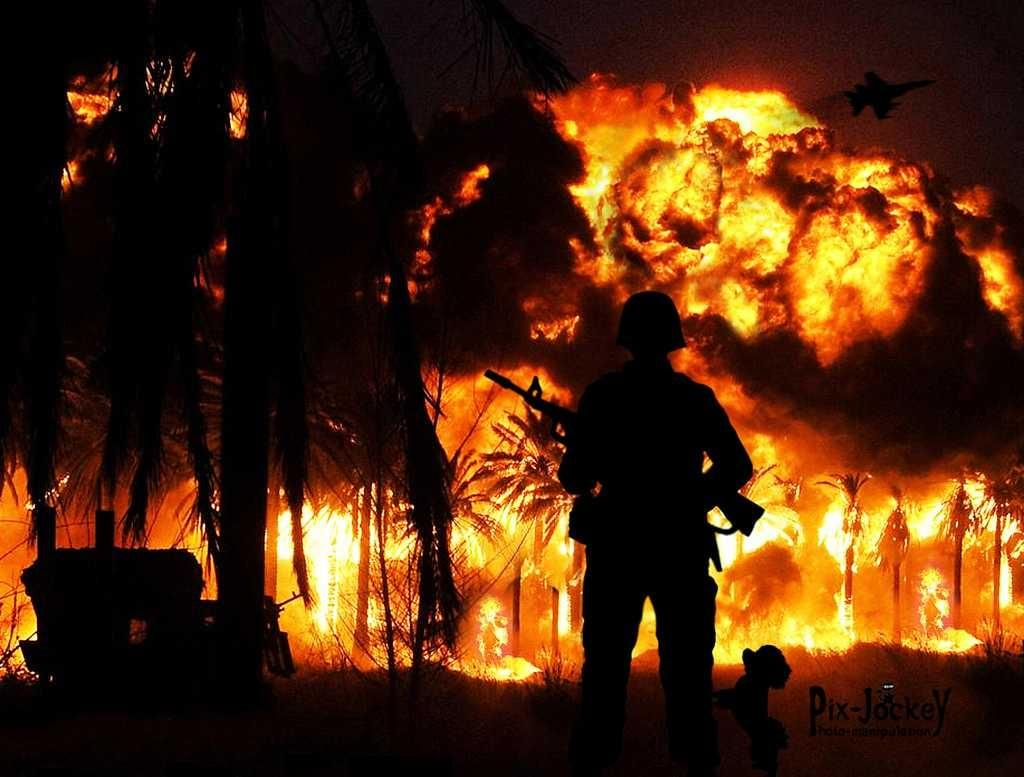fire: (814, 236, 906, 302), (736, 186, 784, 262), (708, 100, 788, 130), (302, 518, 356, 558), (818, 502, 848, 566)
